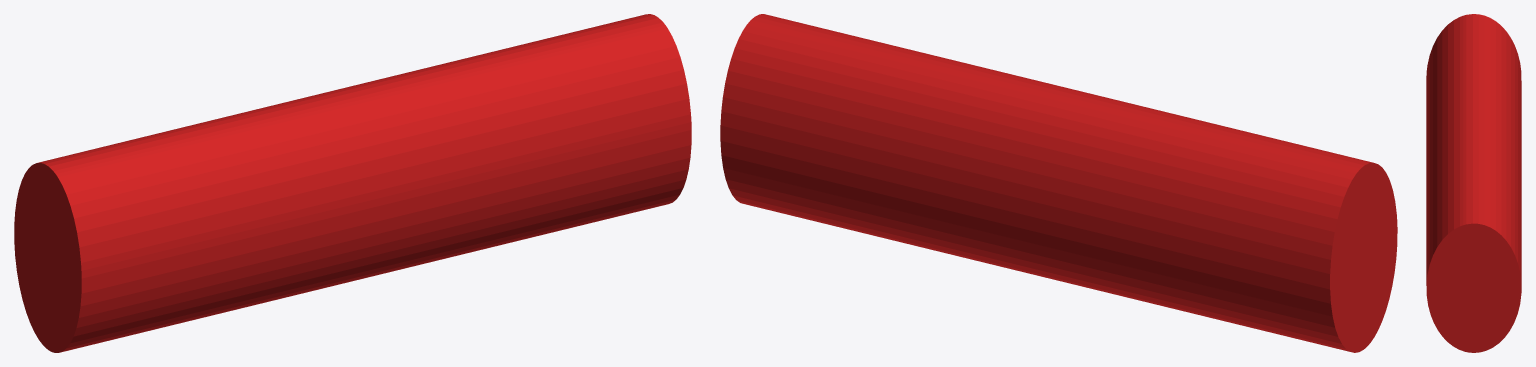
File: peg_46_canonical_colored.obj
The picture shows the model from 3 angles, left to right: view 1: azimuth 30°, elevation 25°; view 2: azimuth 150°, elevation 25°; view 3: azimuth 270°, elevation 25°; orthographic projection. The views are drawn at different scales.
Bounding box in the file's own units: 0.15 × 0.0432 × 0.0287.
